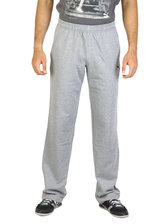clothoes: (37, 17, 128, 204)
